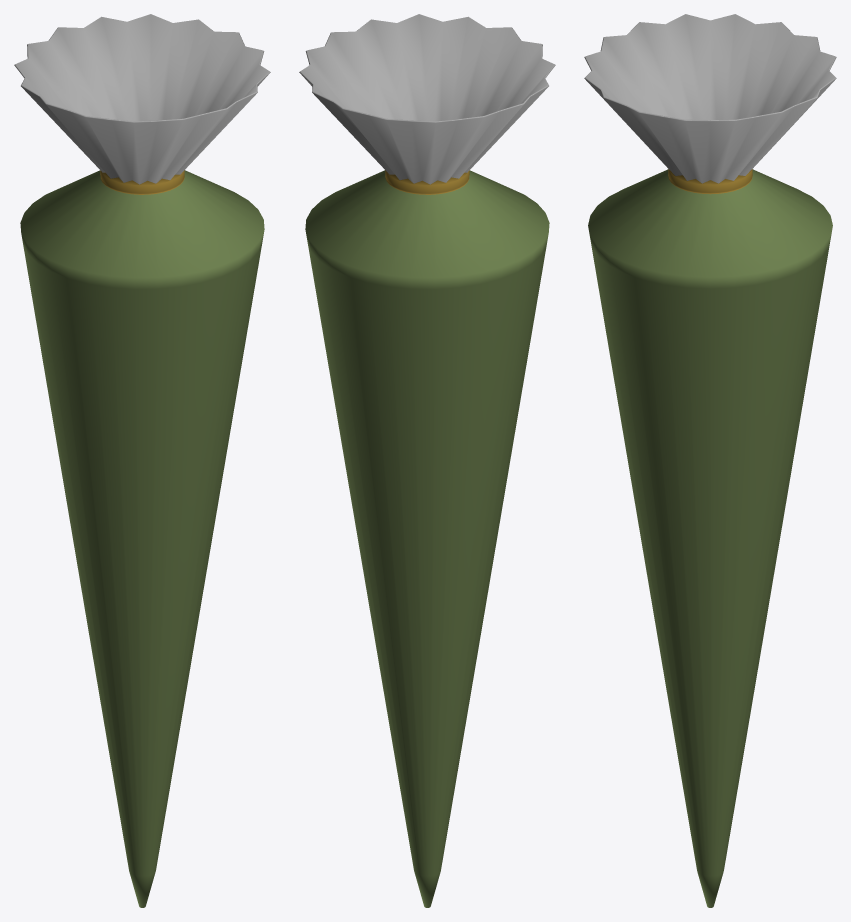
File: piping bag matcha.fbx
3 renders of one model, left to right at view 1: azimuth 30°, elevation 25°; view 2: azimuth 150°, elevation 25°; view 3: azimuth 270°, elevation 25°, orthographic.
Visible parts, largest first — view 1: Cylinder; view 2: Cylinder; view 3: Cylinder.
Part boxes in pixels (x1,y1,x2,y2): Cylinder: [14, 14, 270, 907]; Cylinder: [299, 14, 555, 907]; Cylinder: [584, 14, 836, 907].
Bounding box in the file's own units: 114 × 417 × 114.
